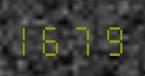nine: (99, 20, 125, 56)
one: (18, 20, 44, 56)
seven: (72, 20, 98, 56)
six: (45, 20, 71, 56)
